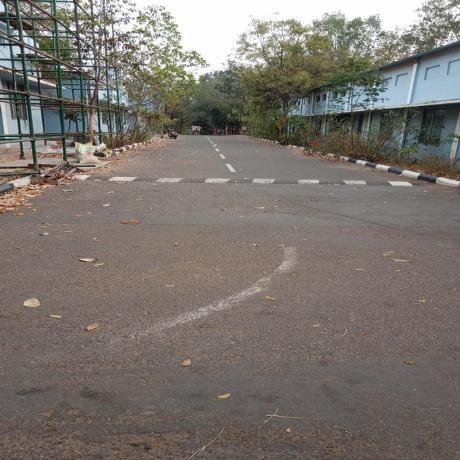Speed Bump: (65, 174, 438, 188)
